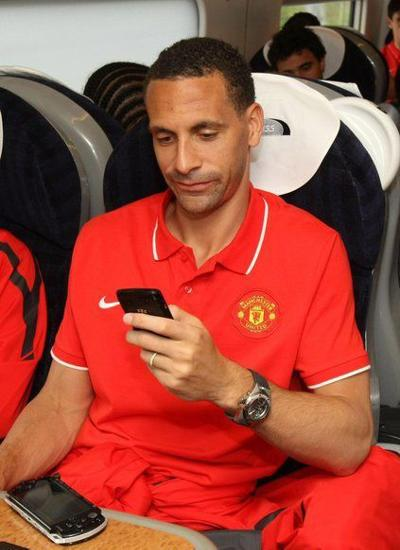person: (3, 40, 374, 531)
